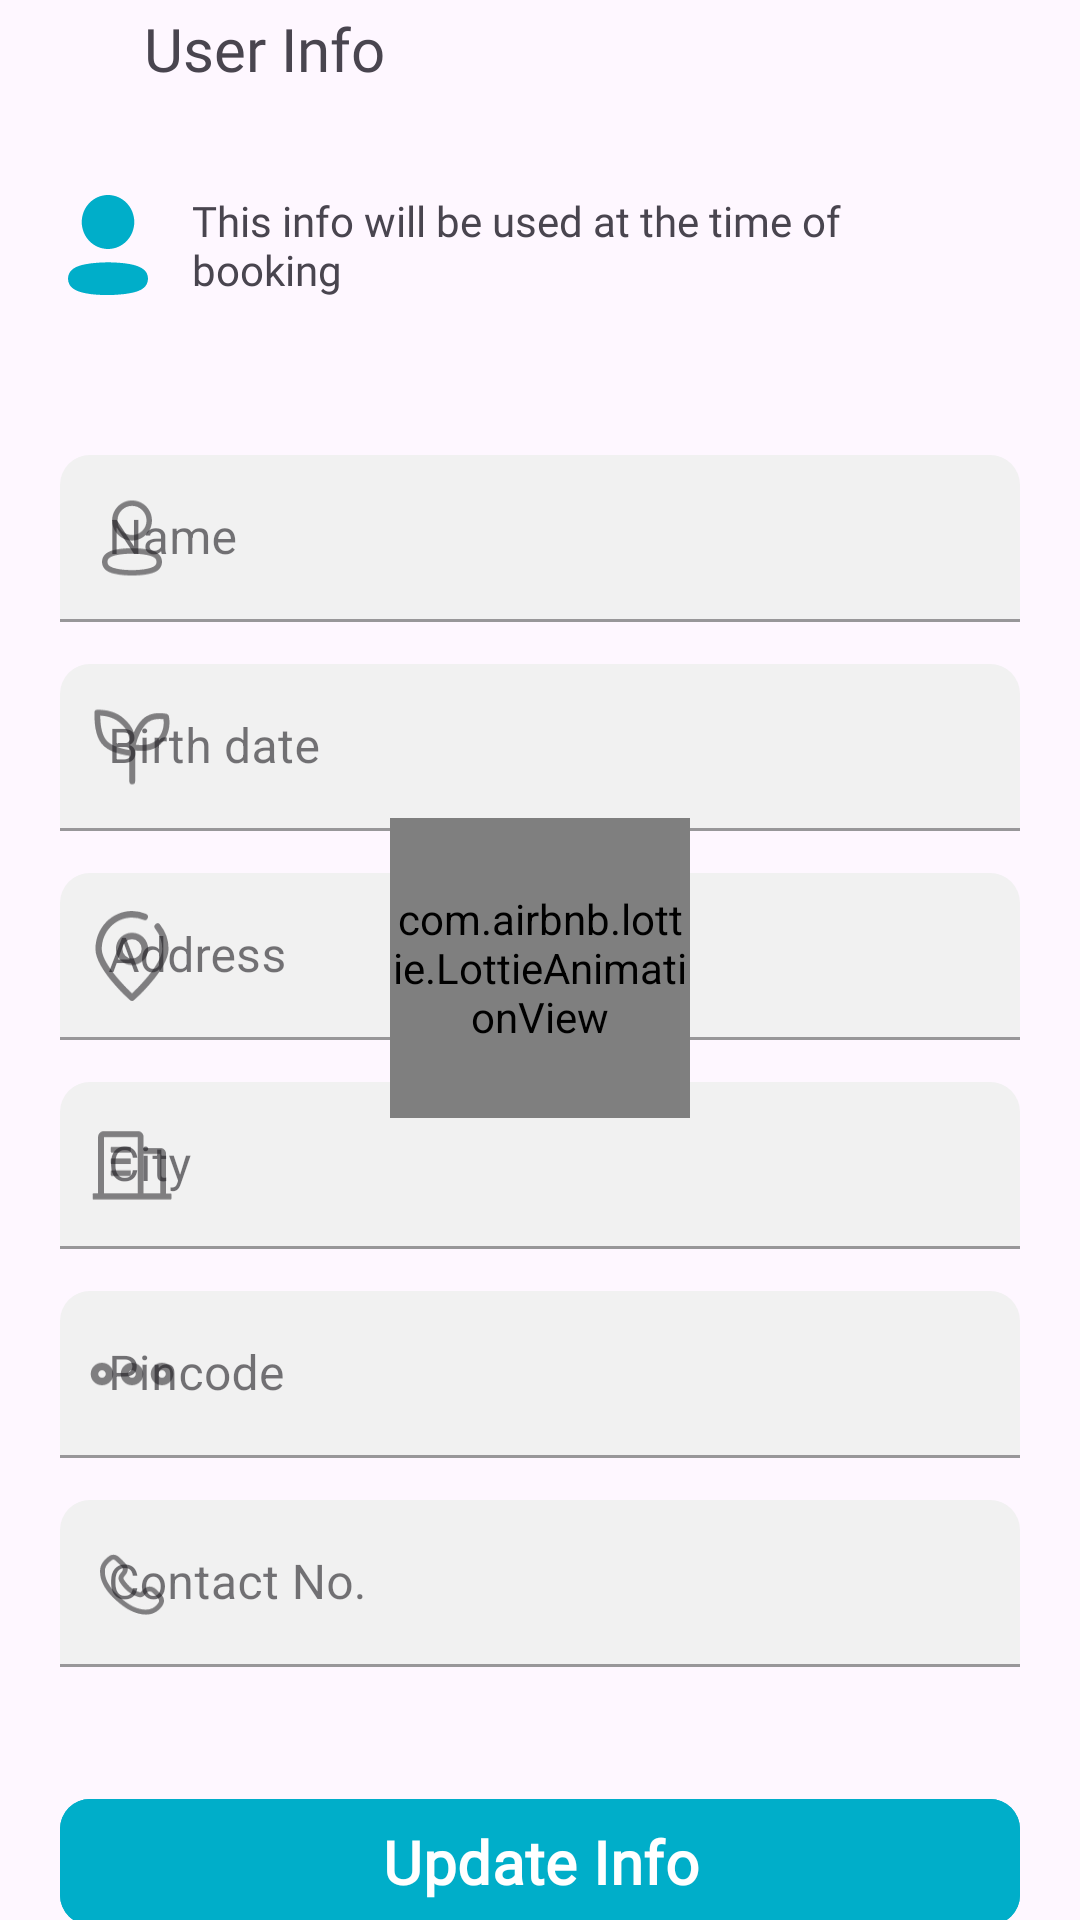

Icons on this 1080x1920 Android screen, each with the point to tap as [x,y]:
profile: [108,245]
